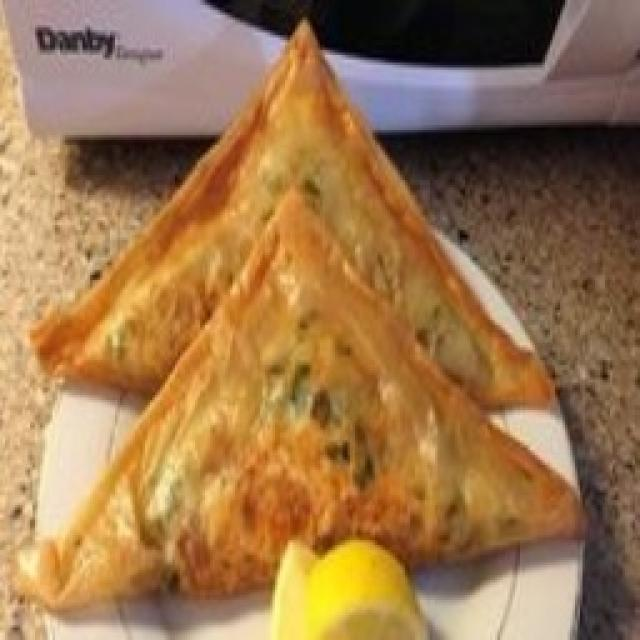Brik: (18, 20, 585, 615)
